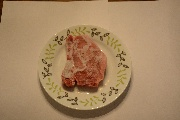beef: (62, 34, 107, 90)
